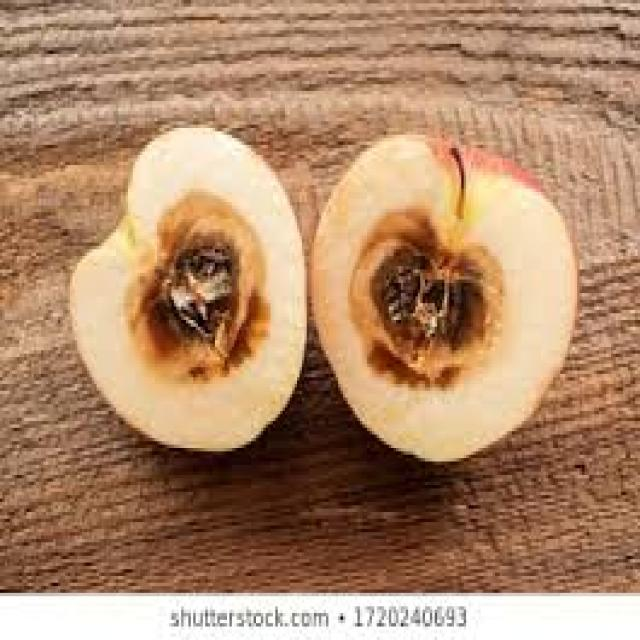organic waste: (307, 128, 577, 465), (68, 121, 306, 452)
